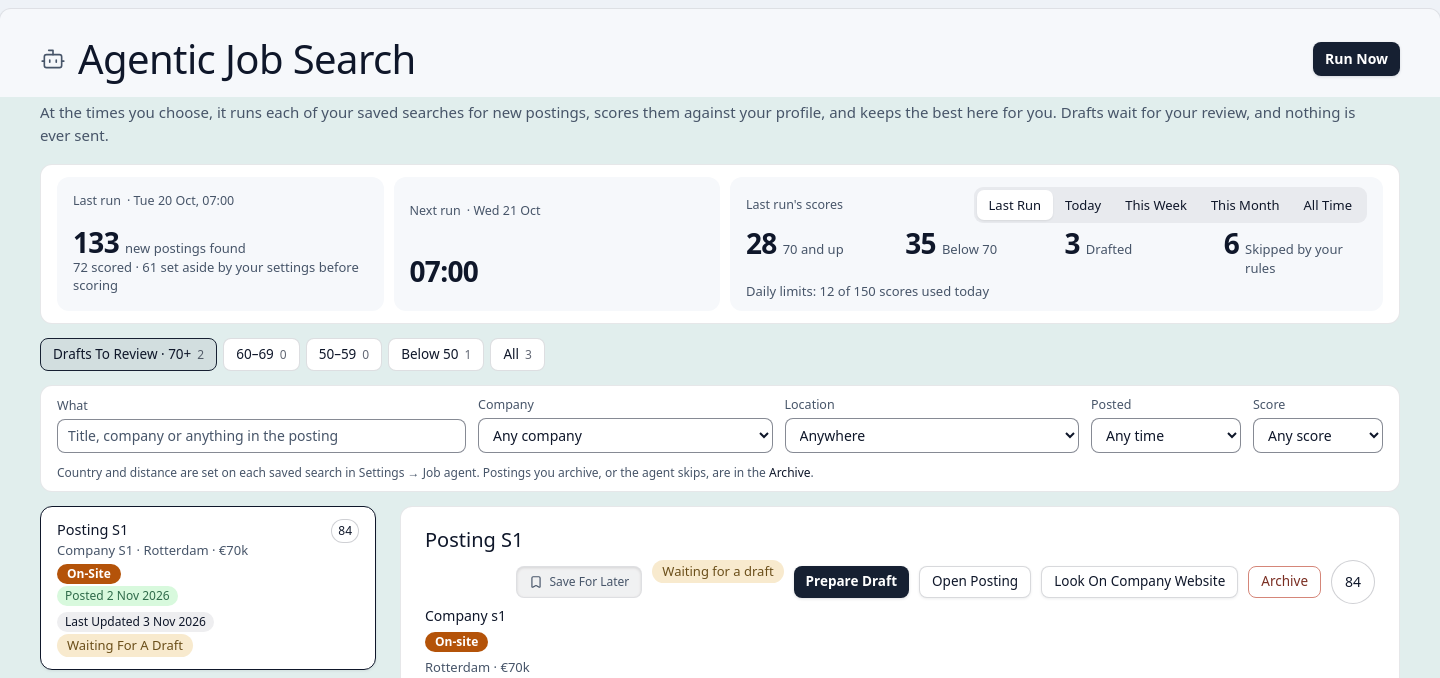
Test: AgentScreen (E16-6) › keeps postings below the minimum score under their own filter, and filters like Manual job search
Step 1. Click the button "Drafts to review · 70+ 2" → {"x": 129, "y": 354}, box left=40, top=338, right=217, bottom=371
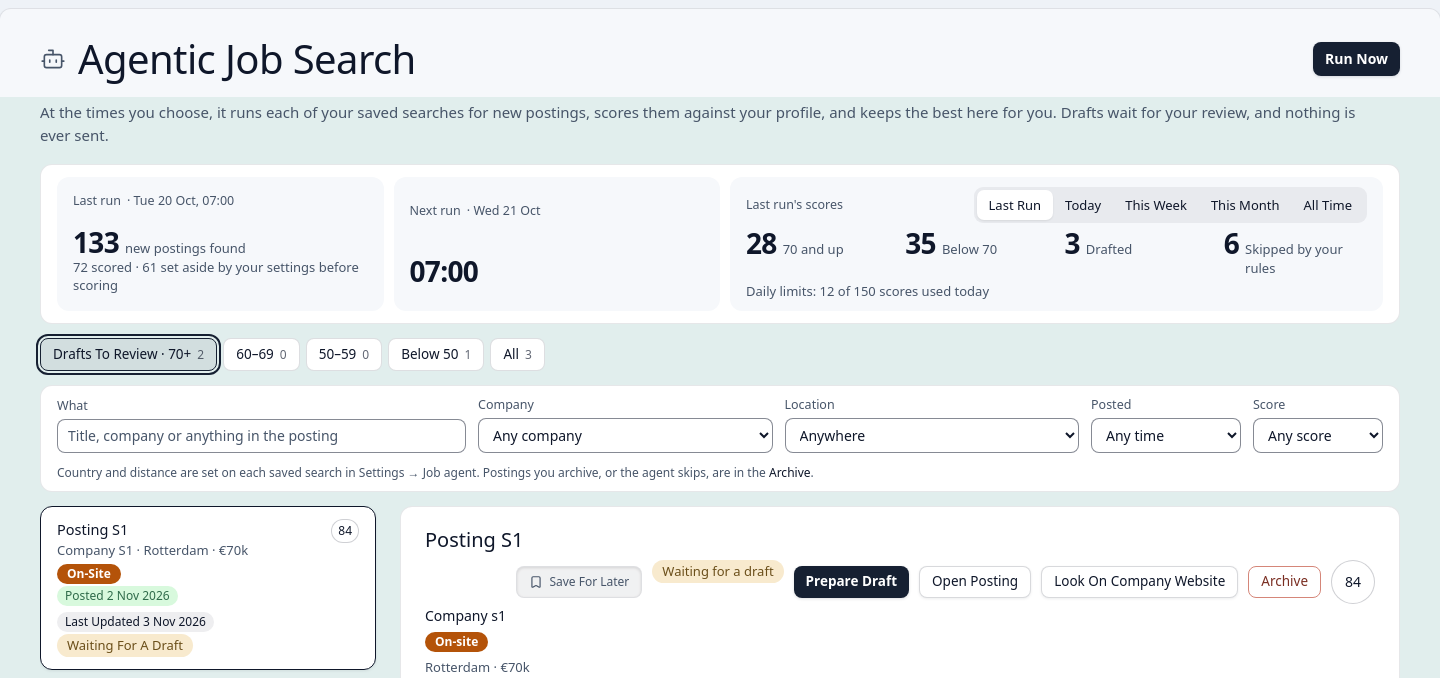
Expected: the text "Posting b1" is not shown
Step 2. Click the button "Below 50 1" → {"x": 436, "y": 354}, box left=388, top=338, right=484, bottom=371
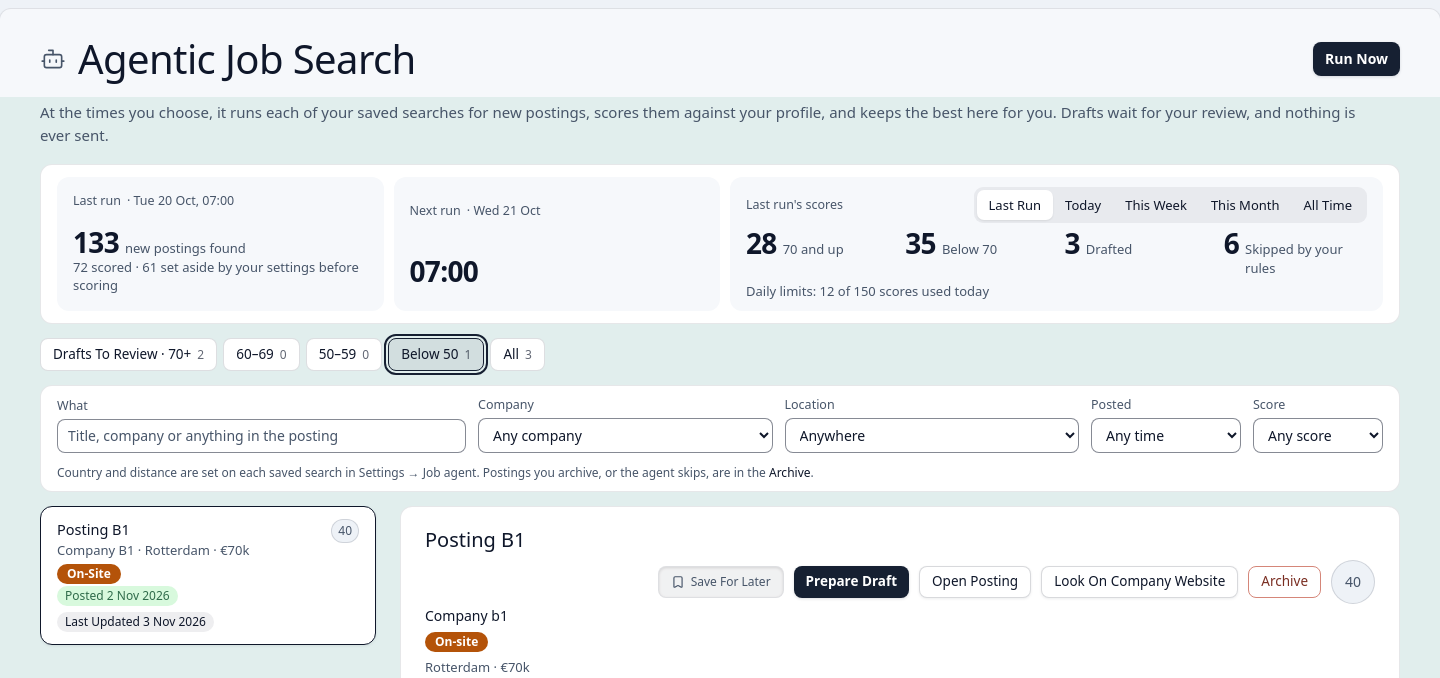
Expected: the button with aria-label "Show this job's details on the right" shows "Posting b1", left=40, top=506, right=376, bottom=645
Step 3. Click the button "Drafts to review · 70+ 2" → {"x": 129, "y": 354}, box left=40, top=338, right=217, bottom=371
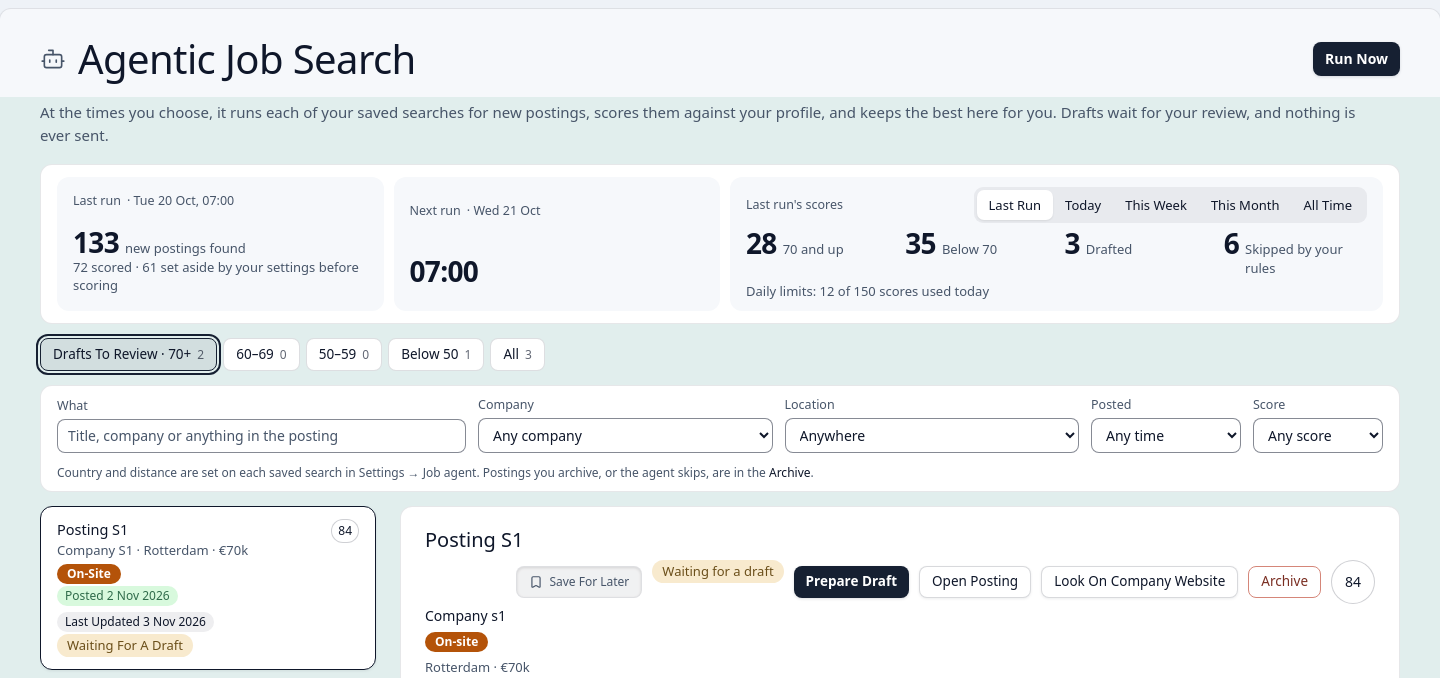
Step 4. Type "s2" into the search field named "Search what it found" → {"x": 262, "y": 436}, box left=57, top=419, right=466, bottom=453
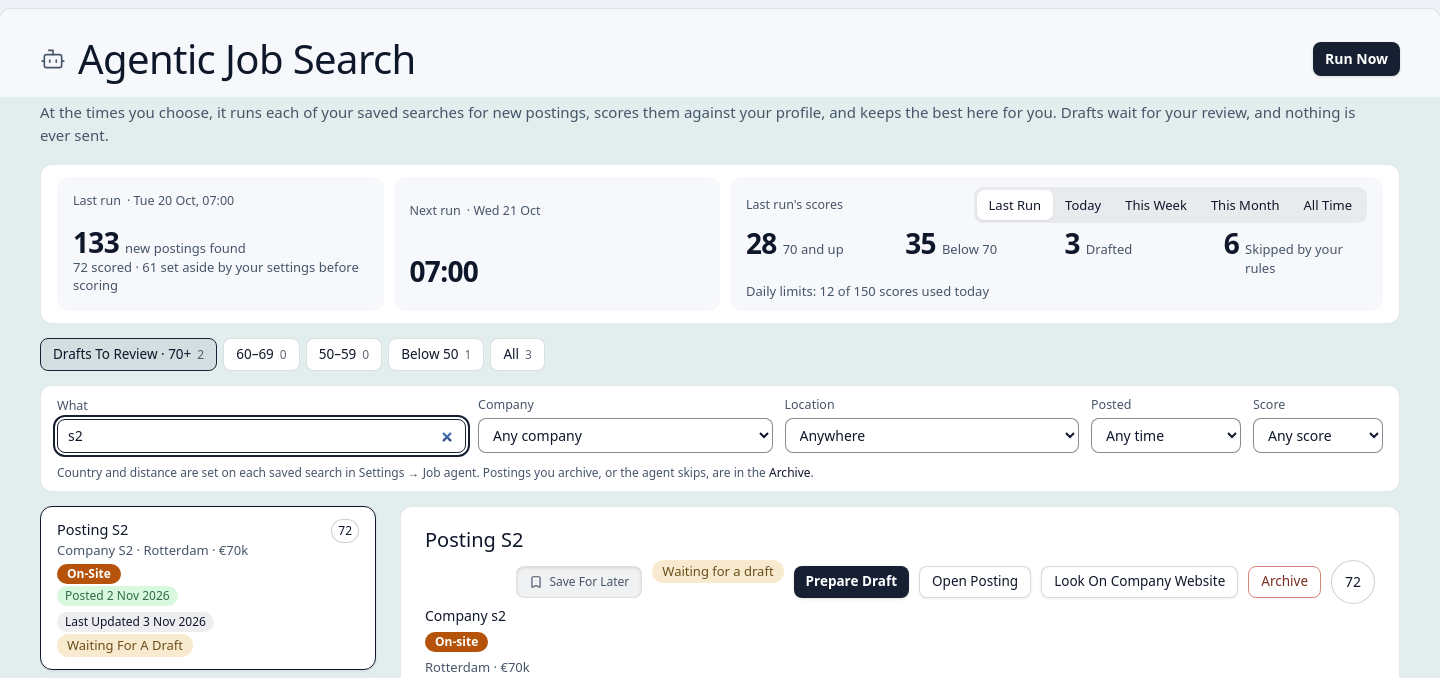
Step 5. Select "90+" in the dropdown labelled "Score" → {"x": 1318, "y": 435}, box left=1253, top=418, right=1383, bottom=453
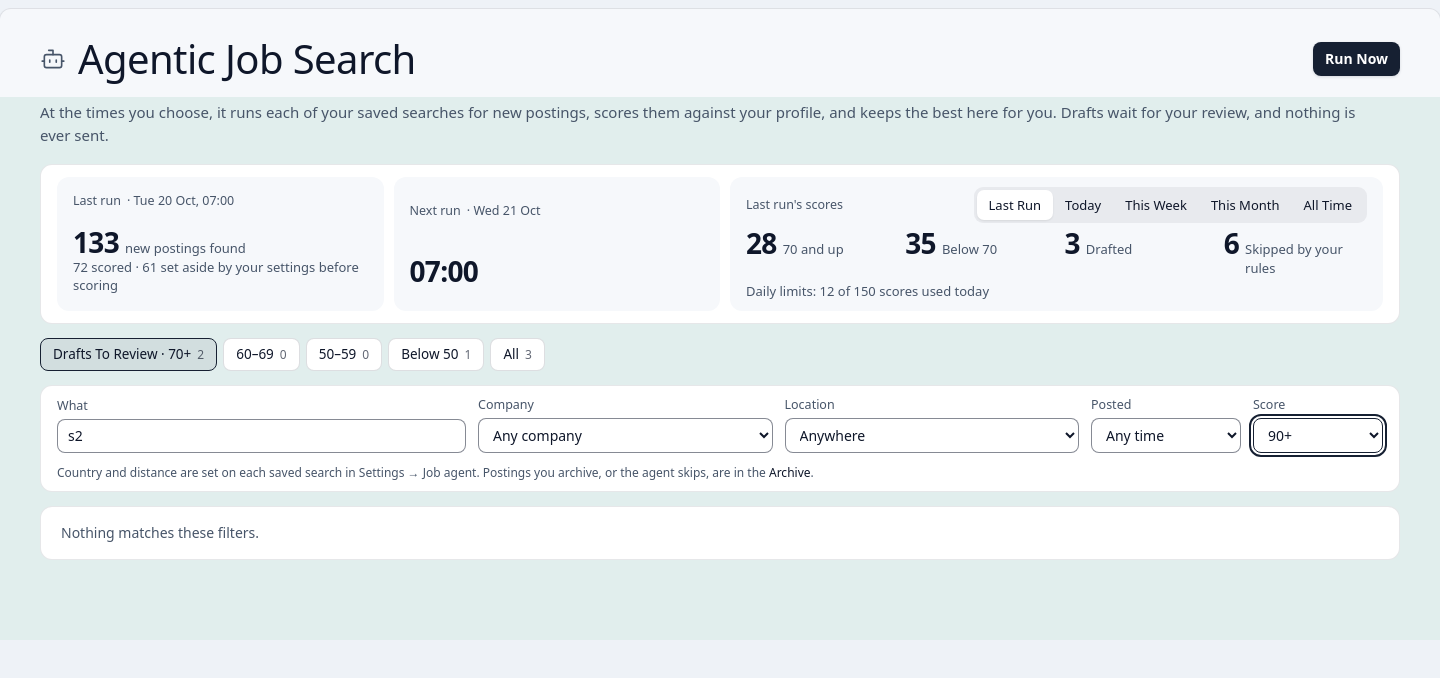
Expected: the text "Nothing matches these filters." is shown, left=40, top=506, right=1400, bottom=560
